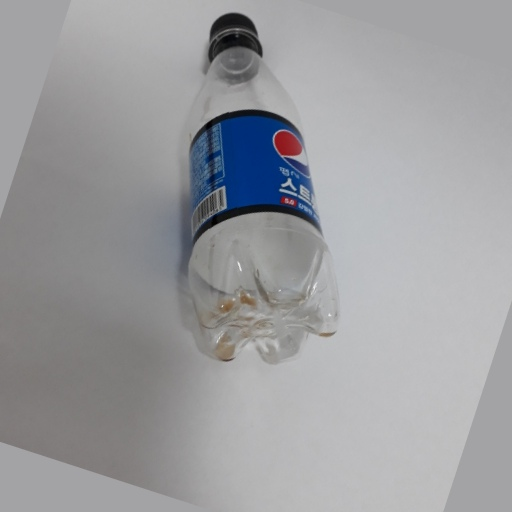Plastic_0: (175, 11, 342, 364)
